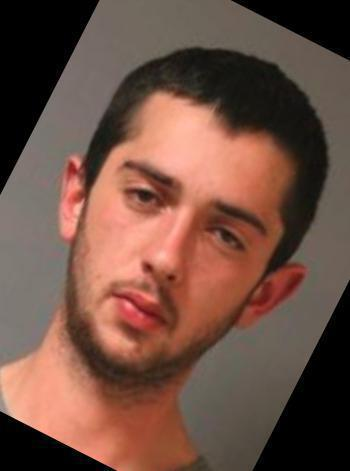Drunk: (94, 90, 243, 360)
